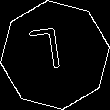L_S: (36, 28, 74, 82)
